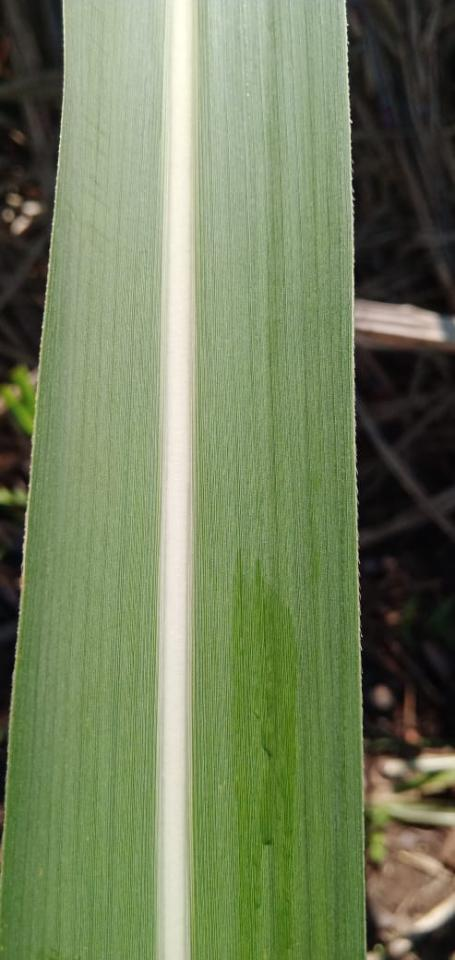Healthy: (2, 0, 365, 959)
